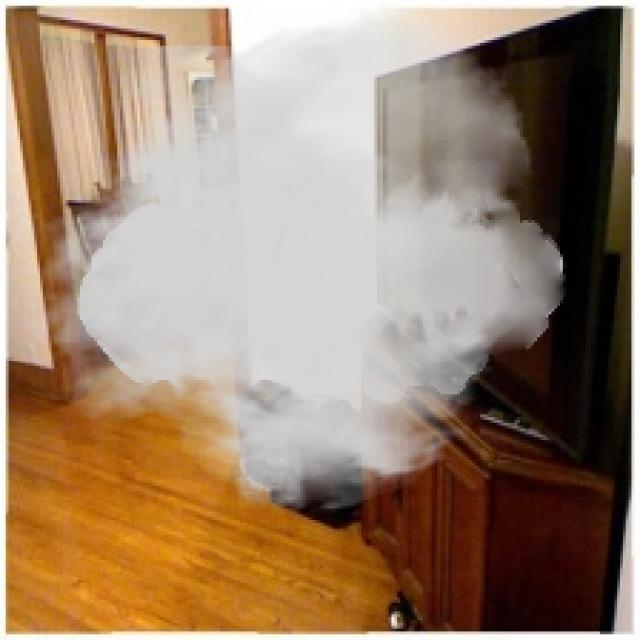Smoke: (23, 0, 566, 517)
